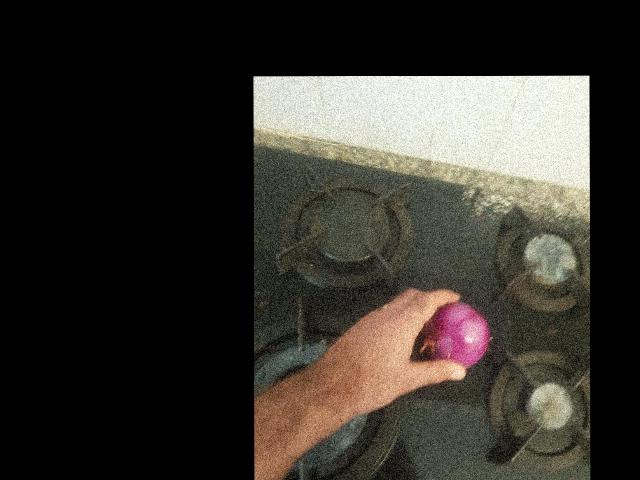onion: (479, 172, 547, 241)
